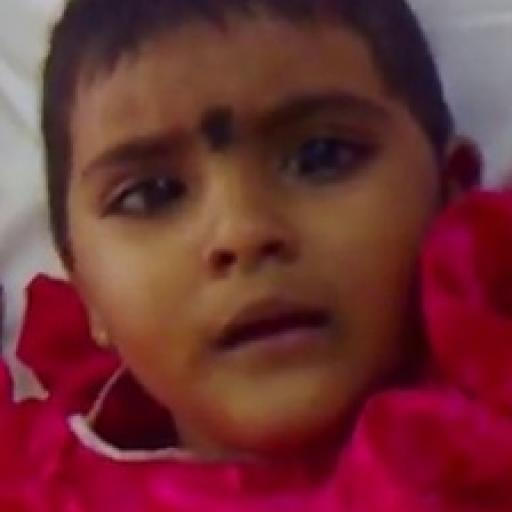Autism: (50, 0, 464, 478)
